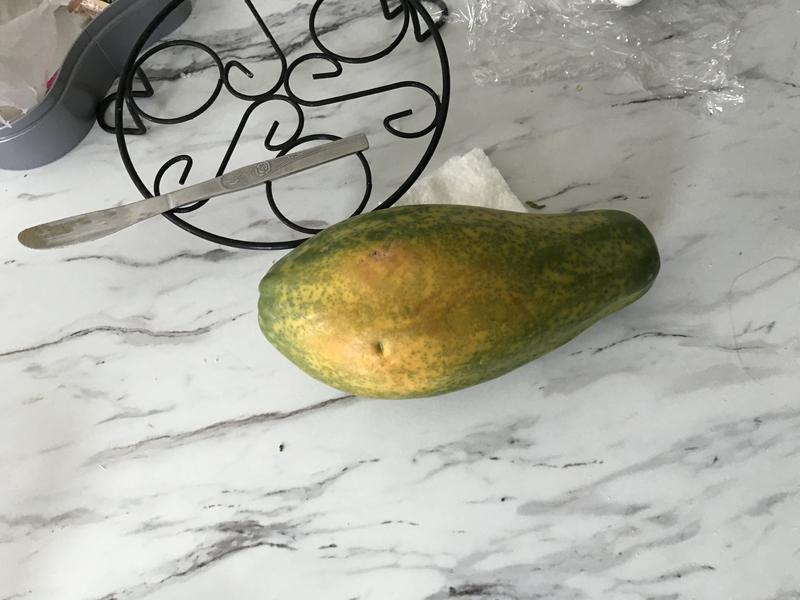papaya: (253, 194, 668, 407)
